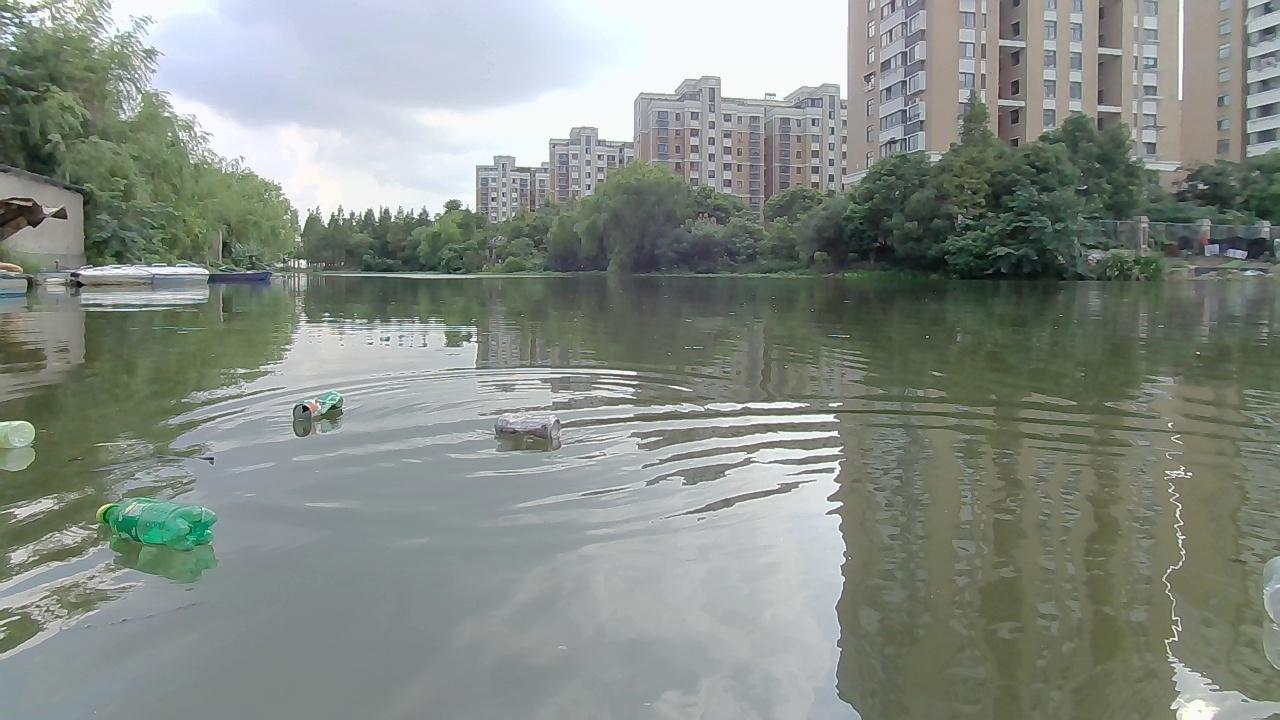bottle: (97, 492, 220, 550), (483, 408, 566, 447), (287, 387, 346, 422), (0, 416, 36, 448)
